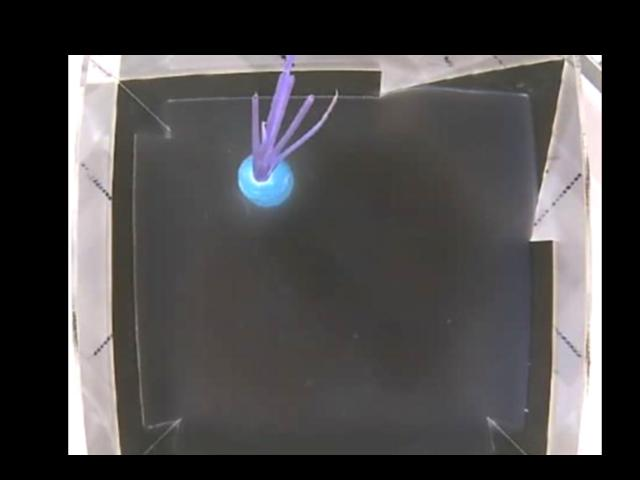Carrot: (236, 122, 309, 205)
